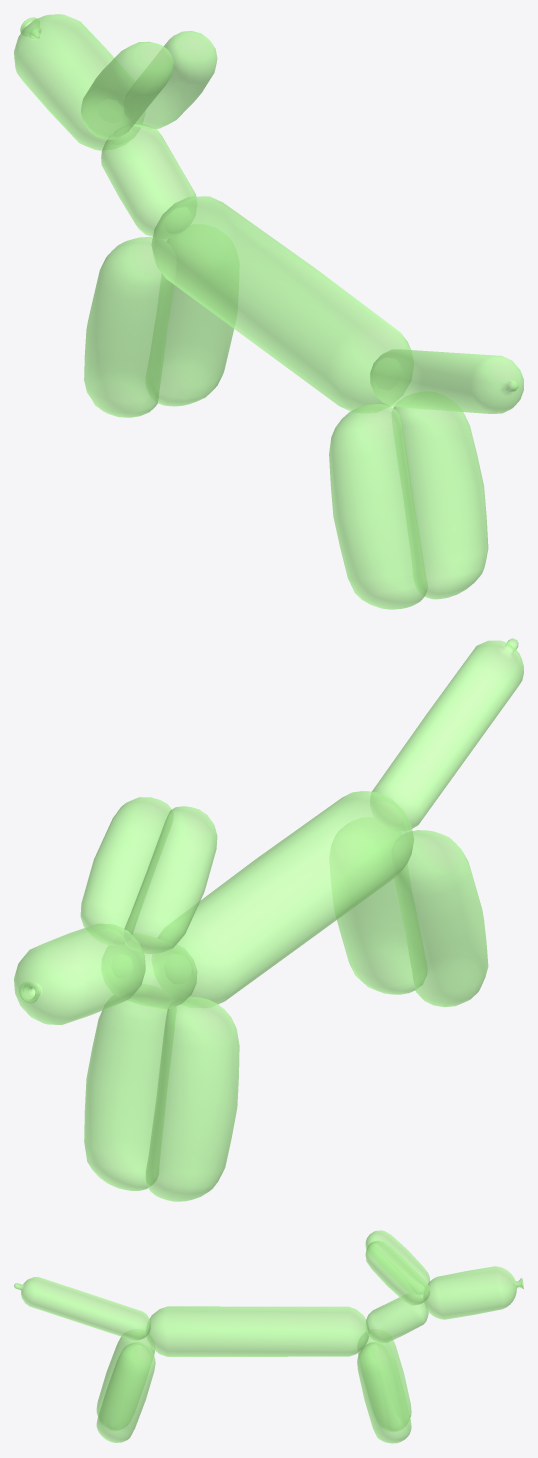
File: balloon_animal.fbx
3 renders of one model, top to bottom at view 1: azimuth 30°, elevation 25°; view 2: azimuth 150°, elevation 25°; view 3: azimuth 270°, elevation 25°, orthographic. The views are drawn at different scales.
Visible parts, largest first — view 1: balloon_animal_legs, balloon_animal_body, balloon_animal_head, balloon_animal_ears, balloon_animal_tail, balloon_animal_neck; view 2: balloon_animal_legs, balloon_animal_body, balloon_animal_ears, balloon_animal_tail, balloon_animal_head, balloon_animal_neck; view 3: balloon_animal_body, balloon_animal_legs, balloon_animal_tail, balloon_animal_head, balloon_animal_ears, balloon_animal_neck.
Part boxes in pixels (<box>): balloon_animal_legs: <box>84,225,488,609</box>; balloon_animal_body: <box>151,196,413,412</box>; balloon_animal_head: <box>14,14,144,150</box>; balloon_animal_ears: <box>80,31,217,139</box>; balloon_animal_tail: <box>370,349,523,413</box>; balloon_animal_neck: <box>101,123,196,238</box>; balloon_animal_legs: <box>84,818,488,1201</box>; balloon_animal_body: <box>152,791,414,1007</box>; balloon_animal_ears: <box>80,797,217,953</box>; balloon_animal_tail: <box>370,638,523,830</box>; balloon_animal_head: <box>14,923,145,1024</box>; balloon_animal_neck: <box>101,934,197,1008</box>; balloon_animal_body: <box>146,1306,369,1356</box>; balloon_animal_legs: <box>96,1329,411,1443</box>; balloon_animal_tail: <box>14,1277,150,1340</box>; balloon_animal_head: <box>423,1266,523,1319</box>; balloon_animal_ears: <box>365,1230,430,1305</box>; balloon_animal_neck: <box>365,1293,428,1343</box>.
Bounding box in the file's own units: 0.1859 × 0.4735 × 1.11.
